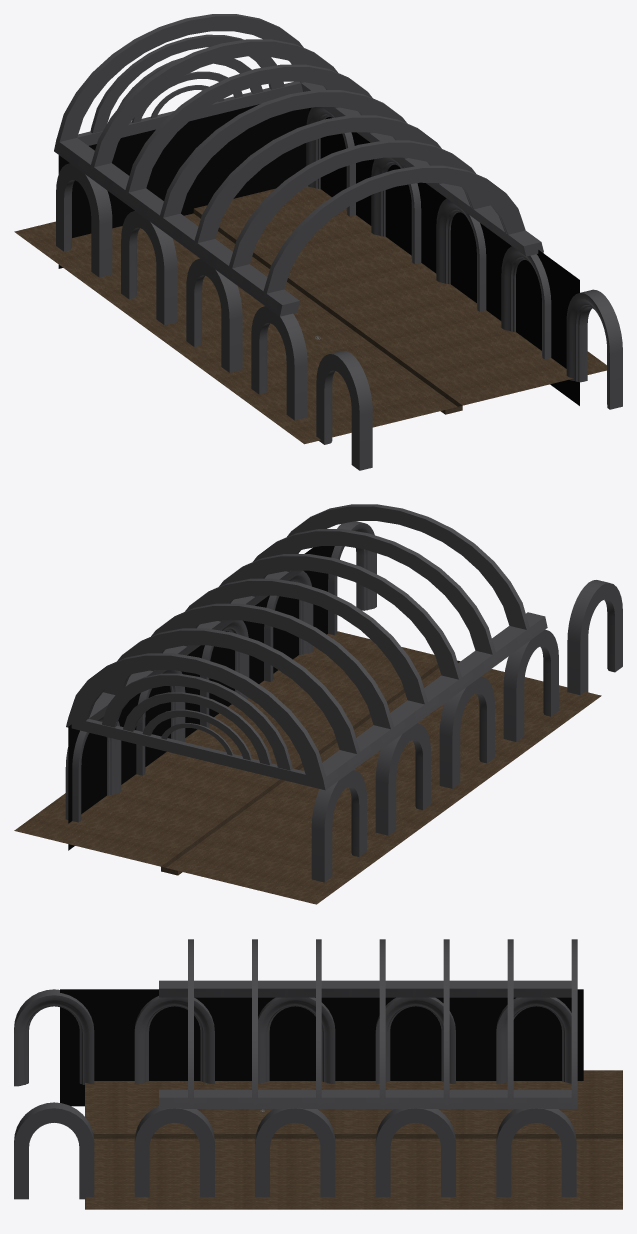
File: hall.glb
The picture shows the model from 3 angles, top to bottom: view 1: azimuth 30°, elevation 25°; view 2: azimuth 150°, elevation 25°; view 3: azimuth 270°, elevation 25°; orthographic projection. The views are drawn at different scales.
Parts seen in each view (by area): view 1: roof, floor, columns, wall; view 2: roof, floor, columns, wall; view 3: floor, wall, columns, roof.
Part boxes in pixels (bbox=[...]): roof: bbox=[54, 14, 543, 316]; floor: bbox=[14, 186, 606, 444]; columns: bbox=[56, 107, 622, 470]; wall: bbox=[58, 104, 579, 405]; roof: bbox=[66, 504, 547, 790]; floor: bbox=[14, 631, 601, 904]; columns: bbox=[65, 521, 622, 882]; wall: bbox=[68, 546, 334, 850]; floor: bbox=[85, 1070, 622, 1209]; wall: bbox=[60, 989, 583, 1106]; columns: bbox=[14, 989, 576, 1199]; roof: bbox=[159, 939, 577, 1108].
Size of the model in its own units: 22.25 by 15.39 by 41.16.
Materials: 4 (1 with a texture image).
